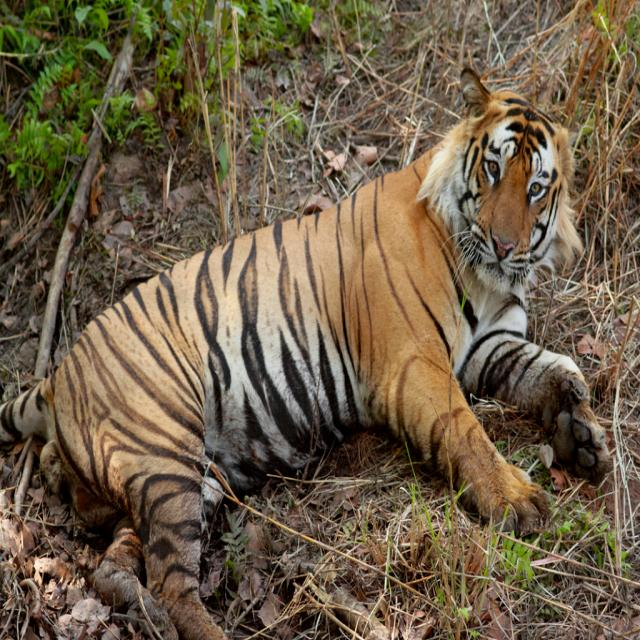Tiger: (0, 65, 612, 640)
